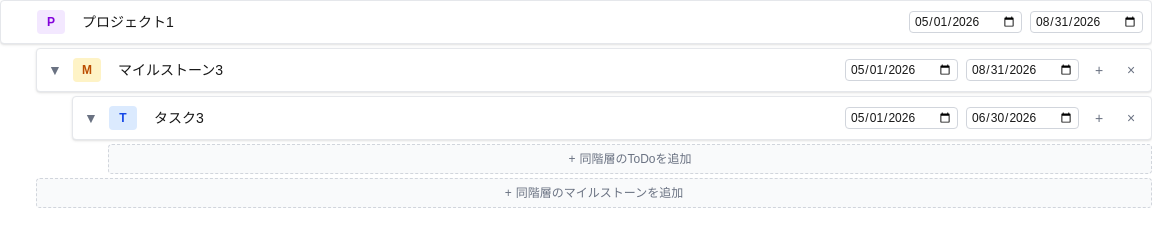
Scenario: ManagementTree — ToDo 追加でスクロール › Task を折り畳んだ後 ToDo の EmptyStack 追加で Task が自動展開される
This screenshot has width=1164, height=239.
// Task 行内のトグルを data-row-id でスコープして特定し、折り畳む
Click the button named "折り畳む": [91, 118] box [81,108,101,128]
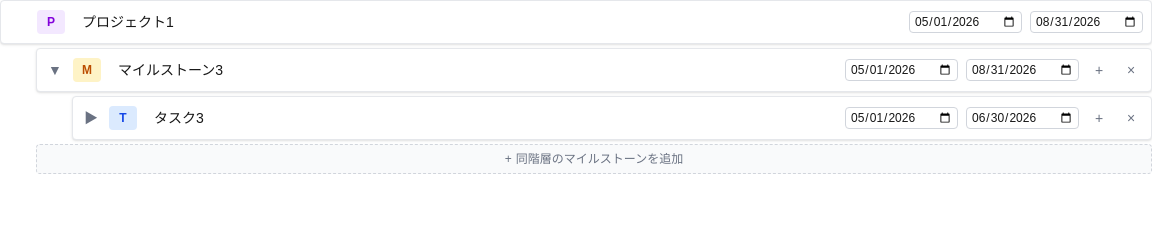
expect the button "同階層のToDoを追加" is gone: met
// Task 行内の展開トグルをクリック (Milestone[m3] は展開済のため Task[t3] のみが「展開する」状態)
Click the button named "展開する": [91, 118] box [81,108,101,128]
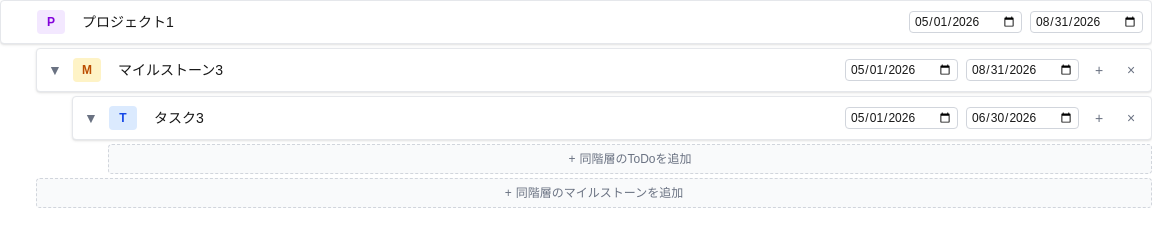
// EmptyStack が表示される
Click the button "+ 同階層のToDoを追加": [630, 159] box [108,144,1152,174]
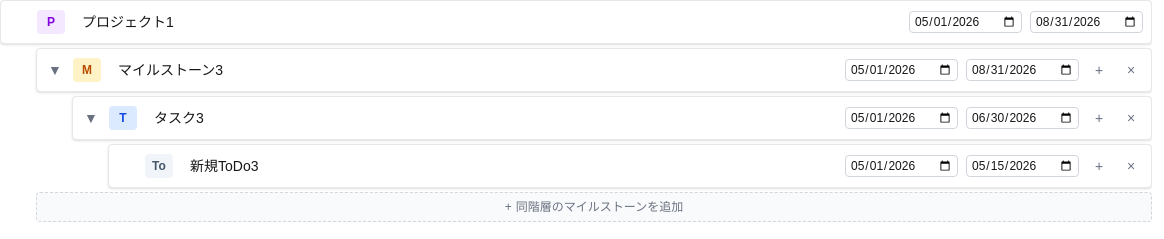
expect the field showing "新規ToDo3" next to "To" is shown: met, box [181,151,837,181]
